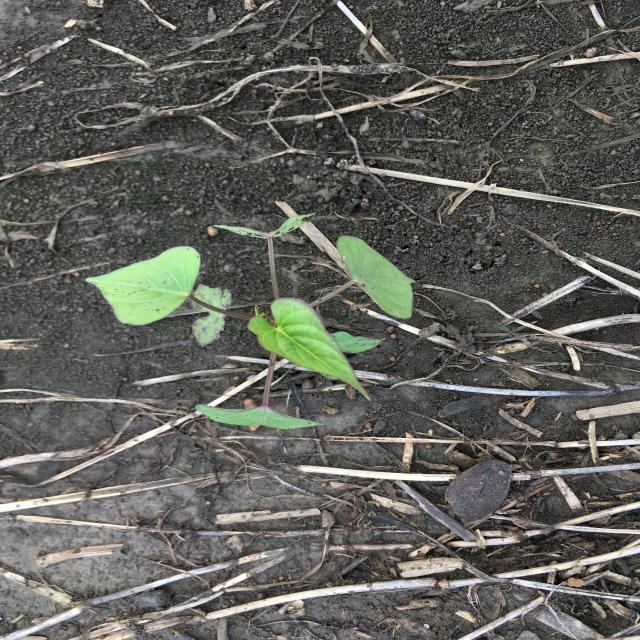MorningGlory: (82, 210, 419, 432)
